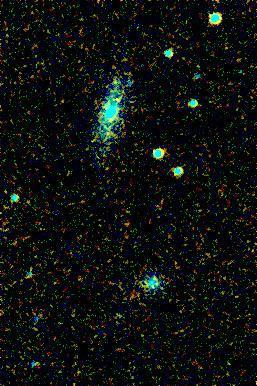star: (101, 65, 131, 95)
